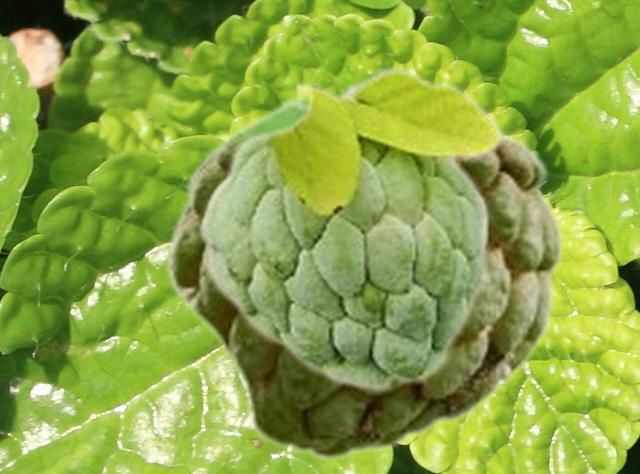atis: (162, 81, 564, 460), (197, 64, 505, 393)
